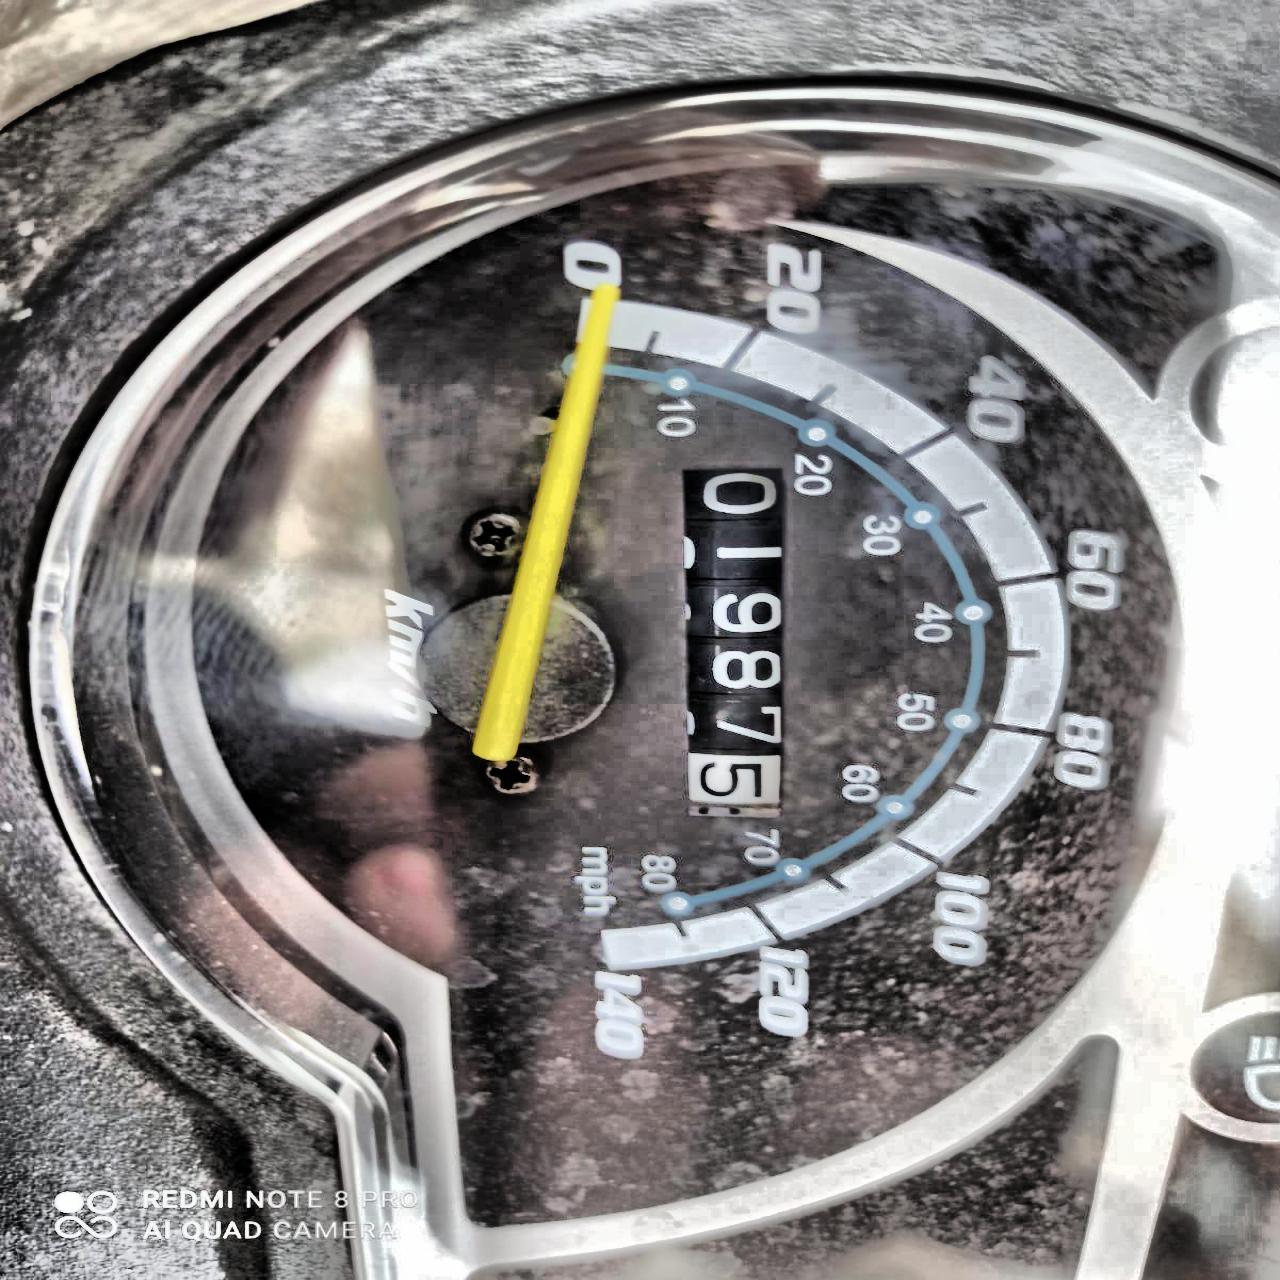0: (694, 472, 782, 519)
1: (697, 538, 792, 570)
5: (695, 758, 770, 803)
7: (704, 704, 792, 753)
8: (699, 649, 789, 692)
9: (699, 588, 782, 636)
odometer: (665, 458, 801, 824)
